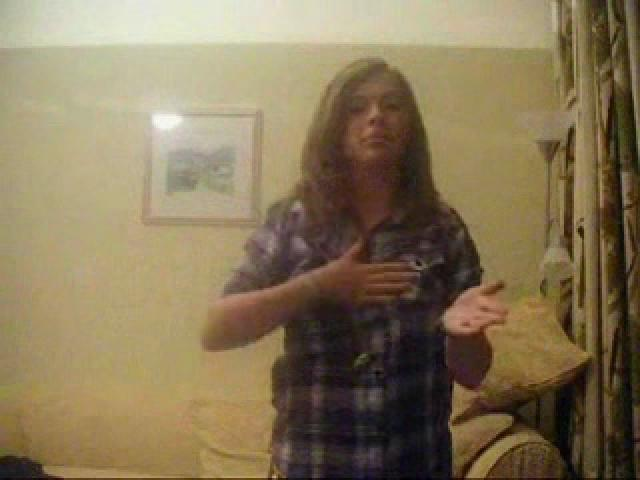F: (208, 50, 500, 479)
